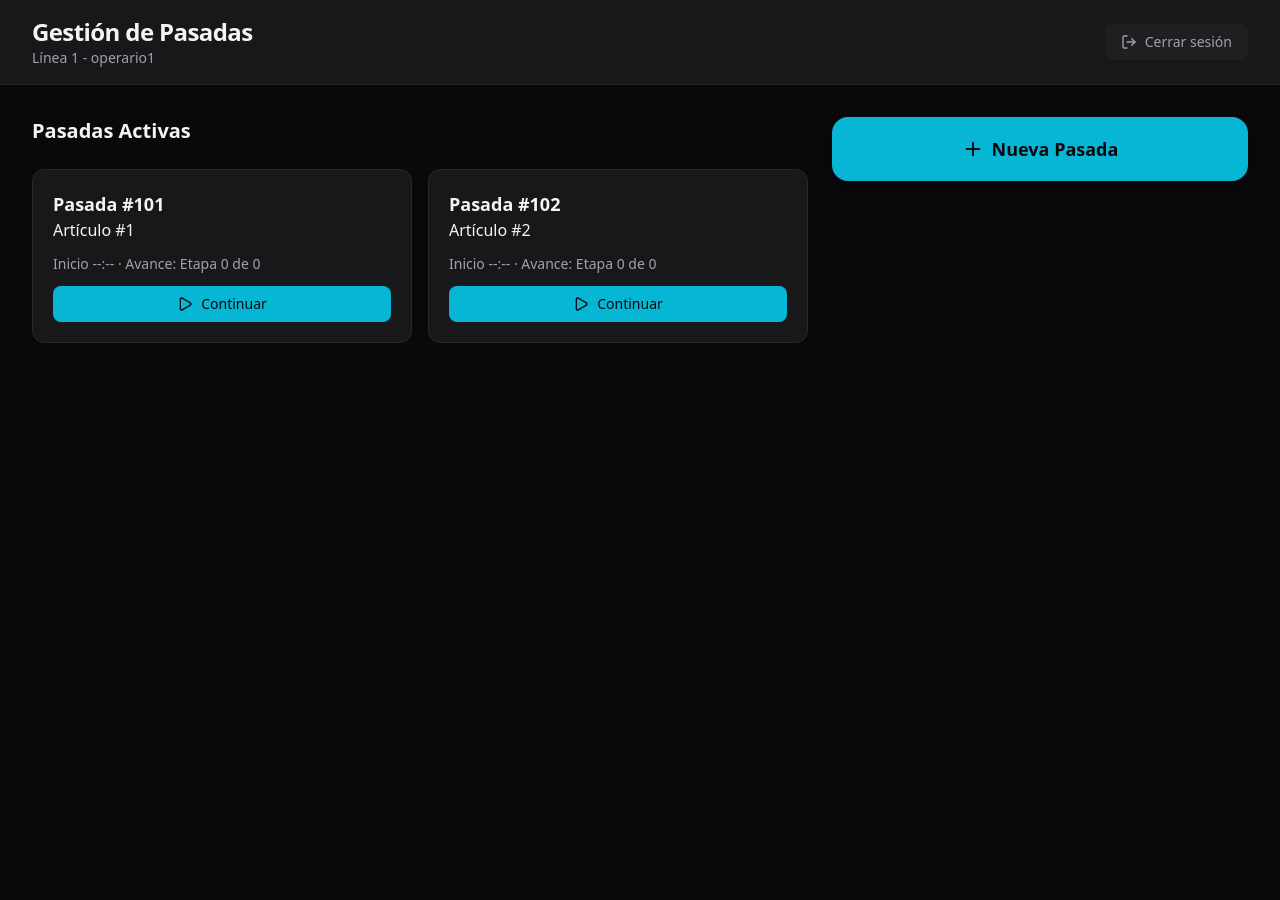
Test: GestionPasadasPage › solo lista balanzas activas (según lo que retorna getBalanzas)
The width and height of the screenshot is (1280, 900).
What coordinates should you click on to do the following:
click the button "Nueva Pasada"
I would click on:
 (1040, 149)
Its box is [832,117,1248,181].
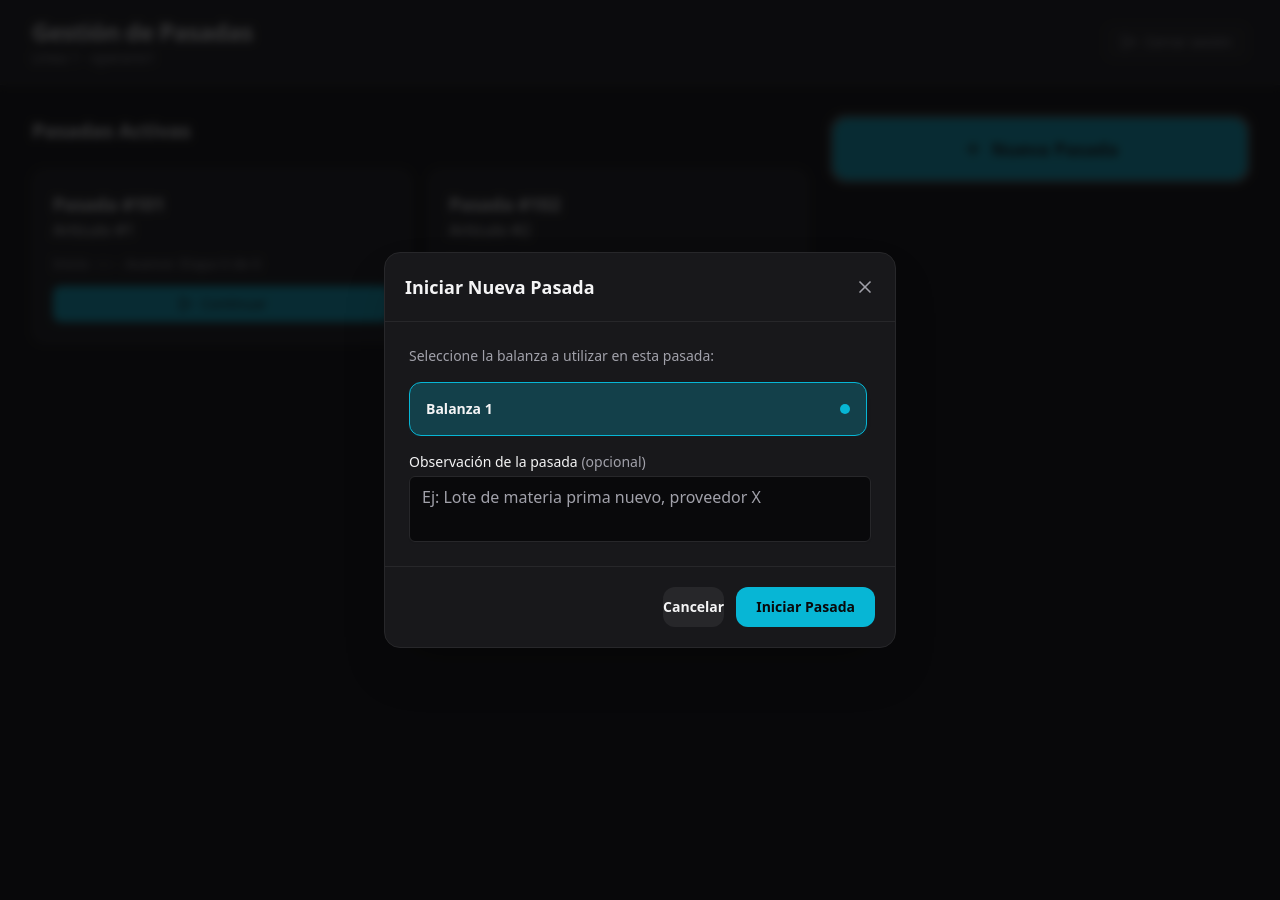
expect the heading "Iniciar Nueva Pasada" is shown: met, box [405,273,595,301]
expect the text "Balanza 1" is shown: met, box [426,399,493,419]
